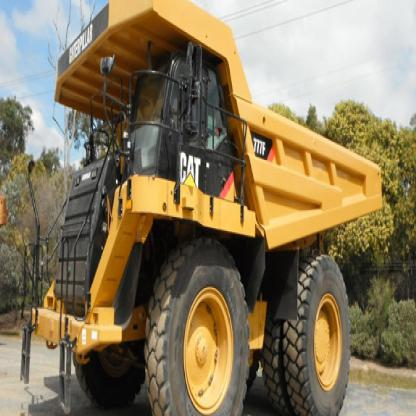dump_truck: (49, 0, 386, 415)
